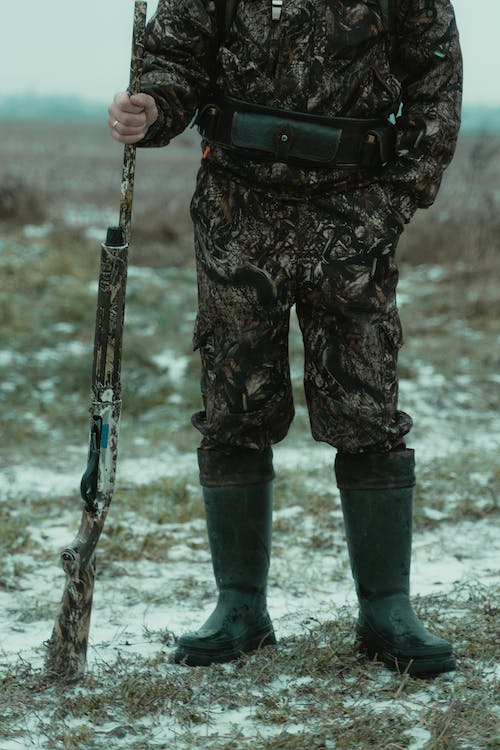gun: (39, 0, 150, 684)
